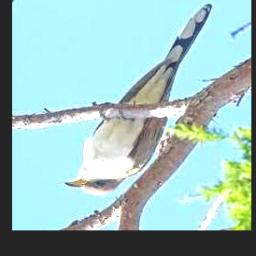Cuckoo: (66, 4, 213, 195)
